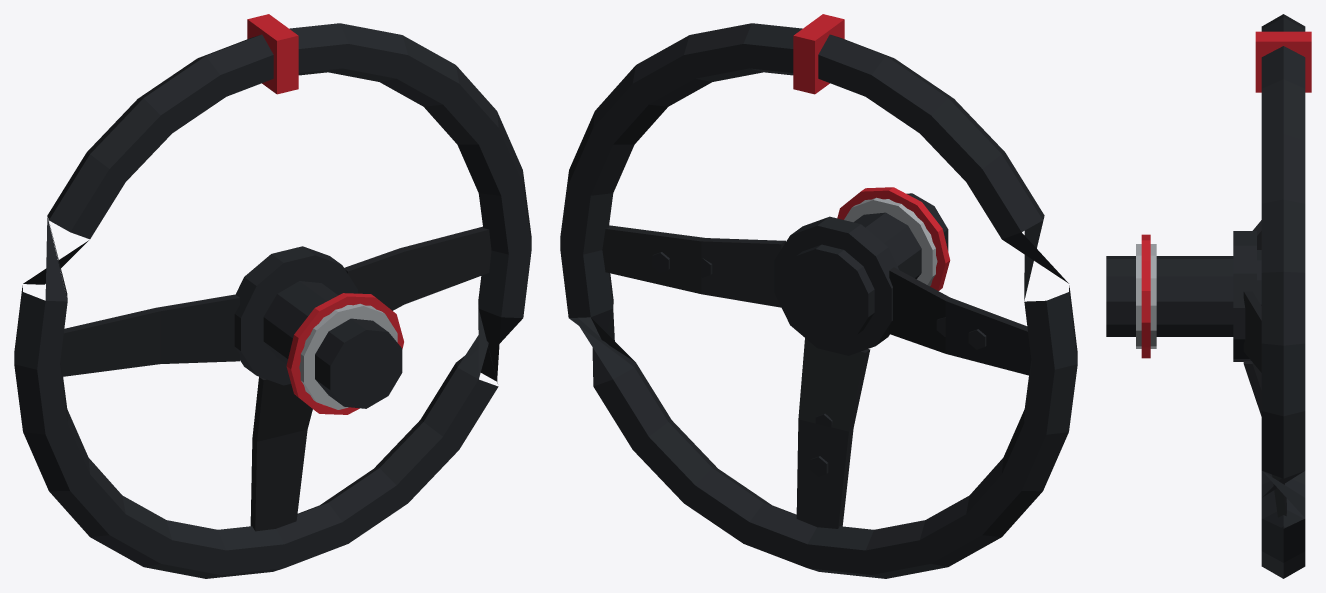
The model's file is apex_v8.glb.
The picture shows the model from 3 angles, left to right: view 1: azimuth 30°, elevation 25°; view 2: azimuth 150°, elevation 25°; view 3: azimuth 270°, elevation 25°; orthographic projection. The views are drawn at different scales.
Parts seen in each view (by area): view 1: model; view 2: model; view 3: model.
Part boxes in pixels (<box>): model: <box>14,14,531,578</box>; model: <box>560,14,1077,578</box>; model: <box>1106,14,1311,578</box>.
Bounding box in the file's own units: 0.384 × 0.386 × 0.139.
3 materials, 1 textured.
